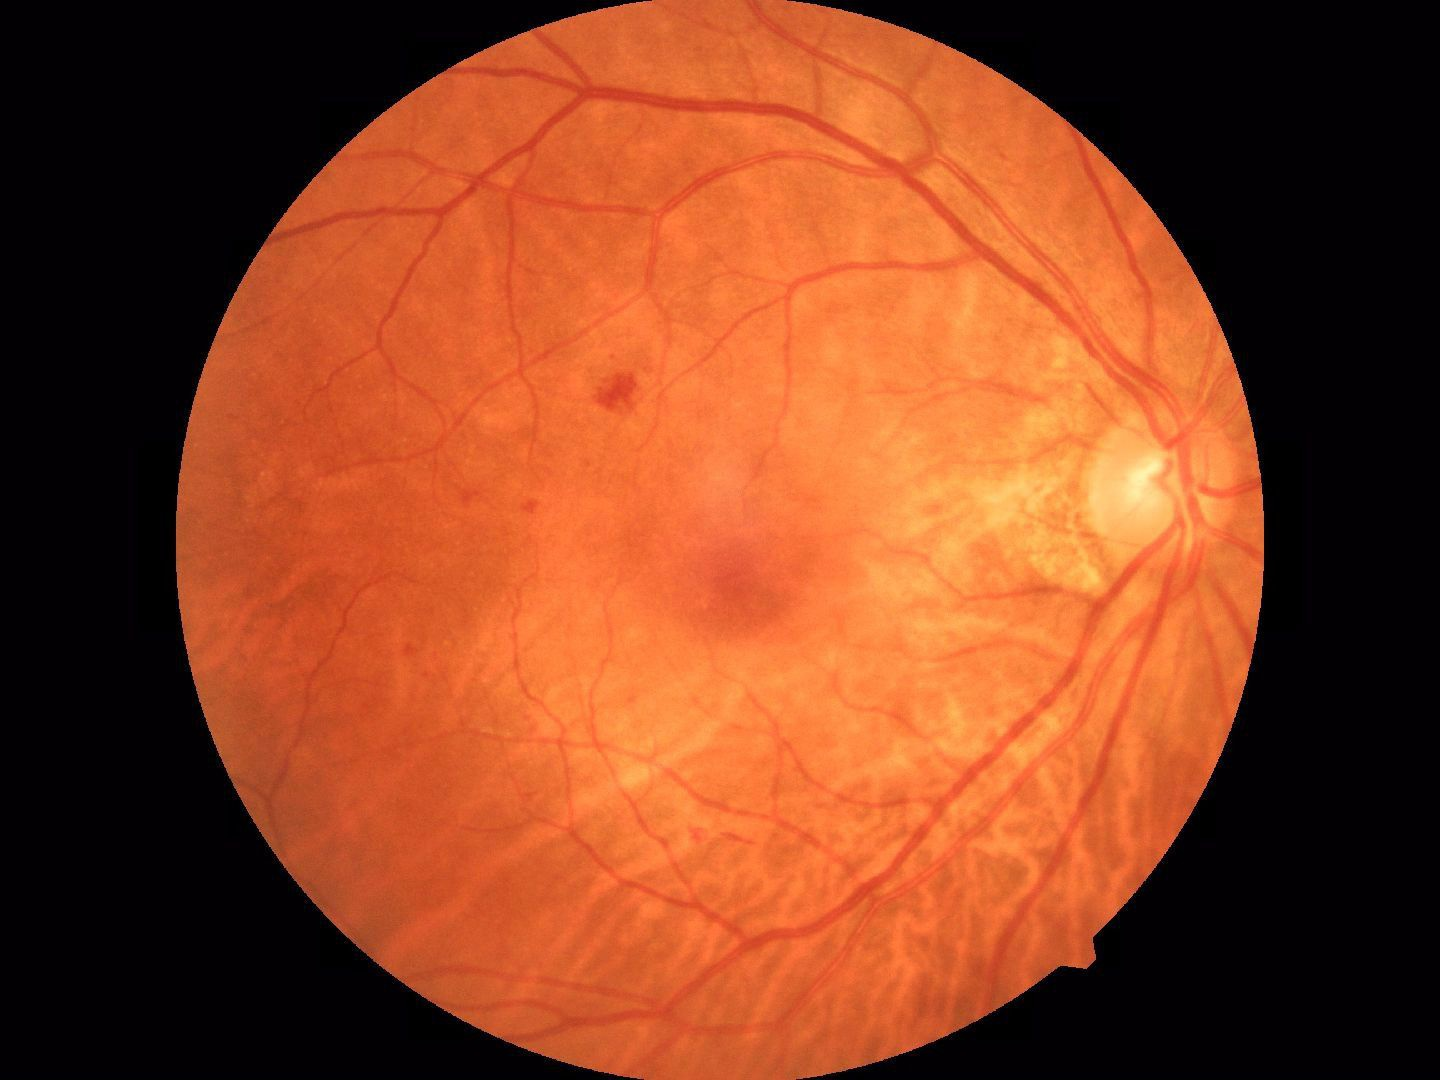Arterioles: (566, 693, 723, 908)
Hemorrhages: (677, 548, 795, 646)
Microaneurysms: (599, 362, 639, 419)
Optic-Disc: (1082, 400, 1242, 567)
Venules: (700, 93, 951, 194), (996, 661, 1126, 819)
